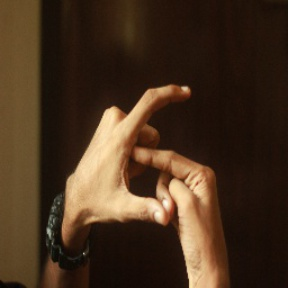E: (115, 75, 208, 229)
